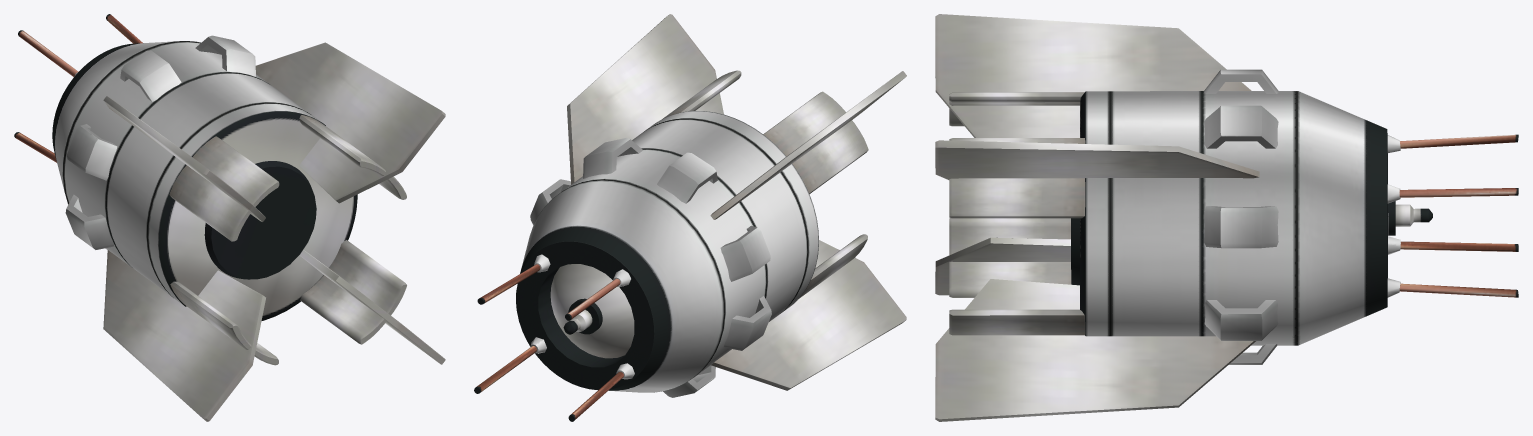
Rendered from Innsbruck.dae.
3 renders of one model, left to right at view 1: azimuth 30°, elevation 25°; view 2: azimuth 150°, elevation 25°; view 3: azimuth 270°, elevation 25°, orthographic. The views are drawn at different scales.
Visible parts, largest first — view 1: Innsbruc; view 2: Innsbruc; view 3: Innsbruc.
Part boxes in pixels (x1=…): Innsbruc: x1=14, y1=14, x2=445, y2=421; Innsbruc: x1=474, y1=14, x2=906, y2=421; Innsbruc: x1=935, y1=14, x2=1518, y2=421.
Bounding box in the file's own units: 1.71 × 1.71 × 3.21.
